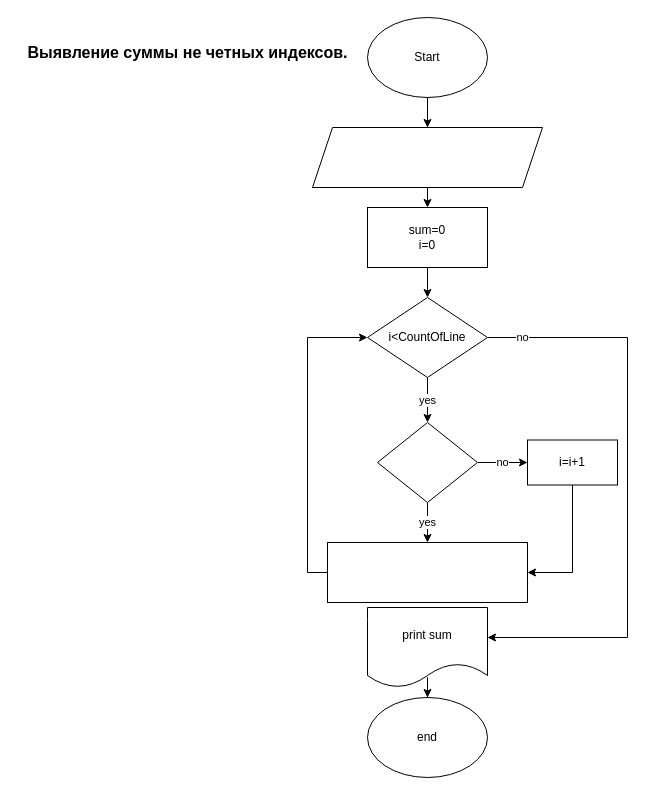
Image size: 653x795. Some labels were removed from this diagram. Here are the shapes that lost their labels. From the top down, the centre of each, then its label:
At point 427,157: "CountOfLine firsrSum[countOfLine] secondSum[countOfLine]".
At point 427,462: "i не четное?".
At point 427,572: "sum=sum+firstSum[i]*second[i]".
